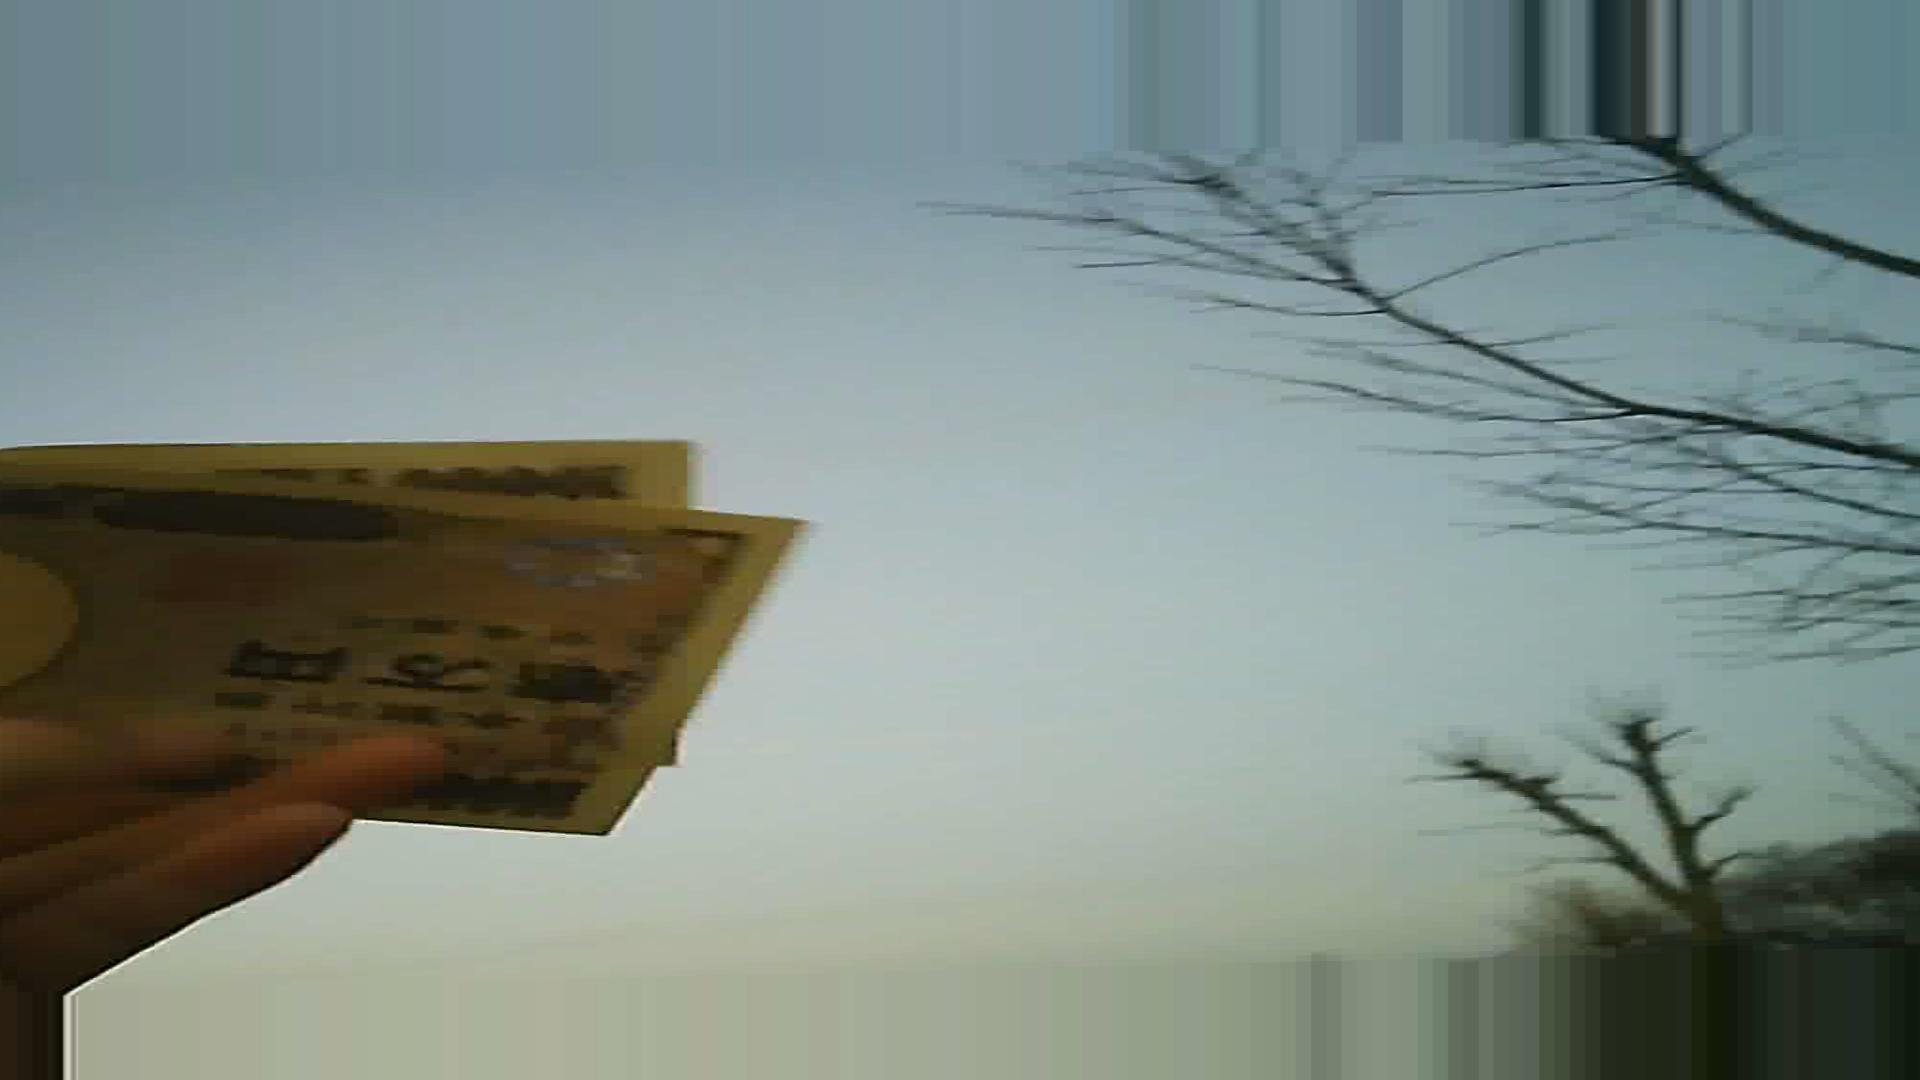10,000 Yen: (11, 396, 781, 815)
